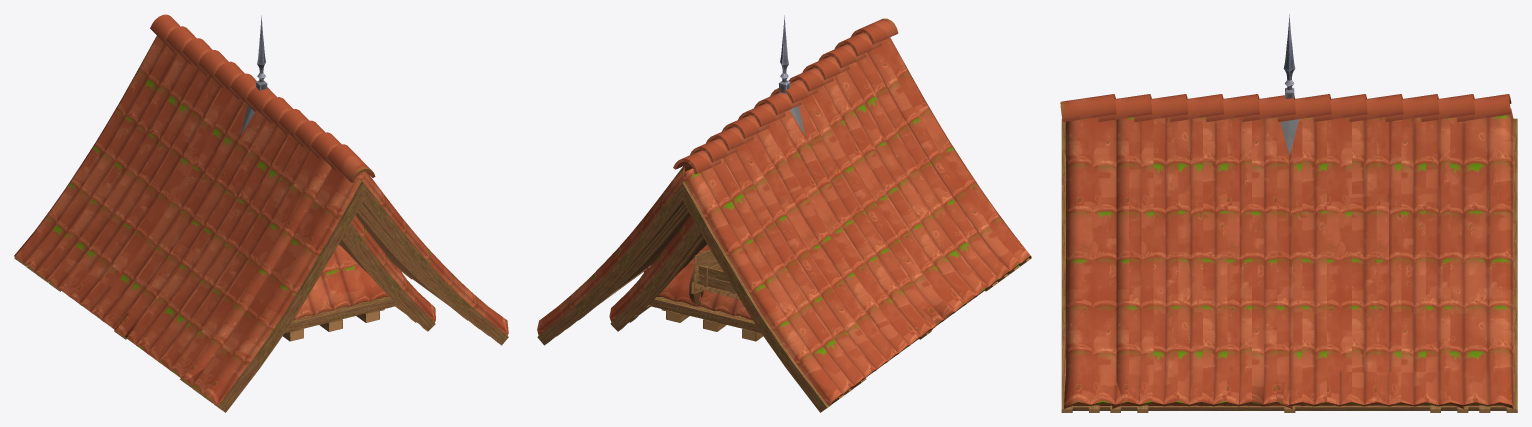
File: dorf.glb
The picture shows the model from 3 angles, left to right: view 1: azimuth 30°, elevation 25°; view 2: azimuth 150°, elevation 25°; view 3: azimuth 270°, elevation 25°; orthographic projection. The views are drawn at different scales.
Visible parts, largest first — view 1: Roof_RoundTiles_6x8, Roof_RoundTiles_6x6, Roof_Tower_RoundTiles, Roof_RoundTiles_4x6, Roof_RoundTiles_6x4; view 2: Roof_RoundTiles_6x8, Roof_RoundTiles_6x6, Roof_Tower_RoundTiles, Roof_RoundTiles_4x6, Prop_Wagon, Roof_RoundTiles_6x4; view 3: Roof_RoundTiles_6x8, Roof_RoundTiles_6x6, Roof_RoundTiles_6x4, Roof_Tower_RoundTiles.
Part boxes in pixels (box(x1,y1,x2,y2)): Roof_RoundTiles_6x8: box(14, 14, 508, 412); Roof_RoundTiles_6x6: box(36, 54, 479, 394); Roof_Tower_RoundTiles: box(241, 15, 406, 341); Roof_RoundTiles_4x6: box(339, 215, 435, 331); Roof_RoundTiles_6x4: box(114, 96, 504, 412); Roof_RoundTiles_6x8: box(537, 18, 1031, 412); Roof_RoundTiles_6x6: box(566, 52, 1009, 394); Roof_Tower_RoundTiles: box(640, 15, 805, 341); Roof_RoundTiles_4x6: box(609, 215, 706, 331); Prop_Wagon: box(689, 249, 744, 306); Roof_RoundTiles_6x4: box(644, 20, 1026, 339); Roof_RoundTiles_6x8: box(1060, 94, 1517, 412); Roof_RoundTiles_6x6: box(1110, 117, 1468, 412); Roof_RoundTiles_6x4: box(1061, 95, 1295, 412); Roof_Tower_RoundTiles: box(1280, 14, 1299, 155).
Bounding box in the file's own units: 8.25 × 8.91 × 9.68.
8 materials, 8 textured.
